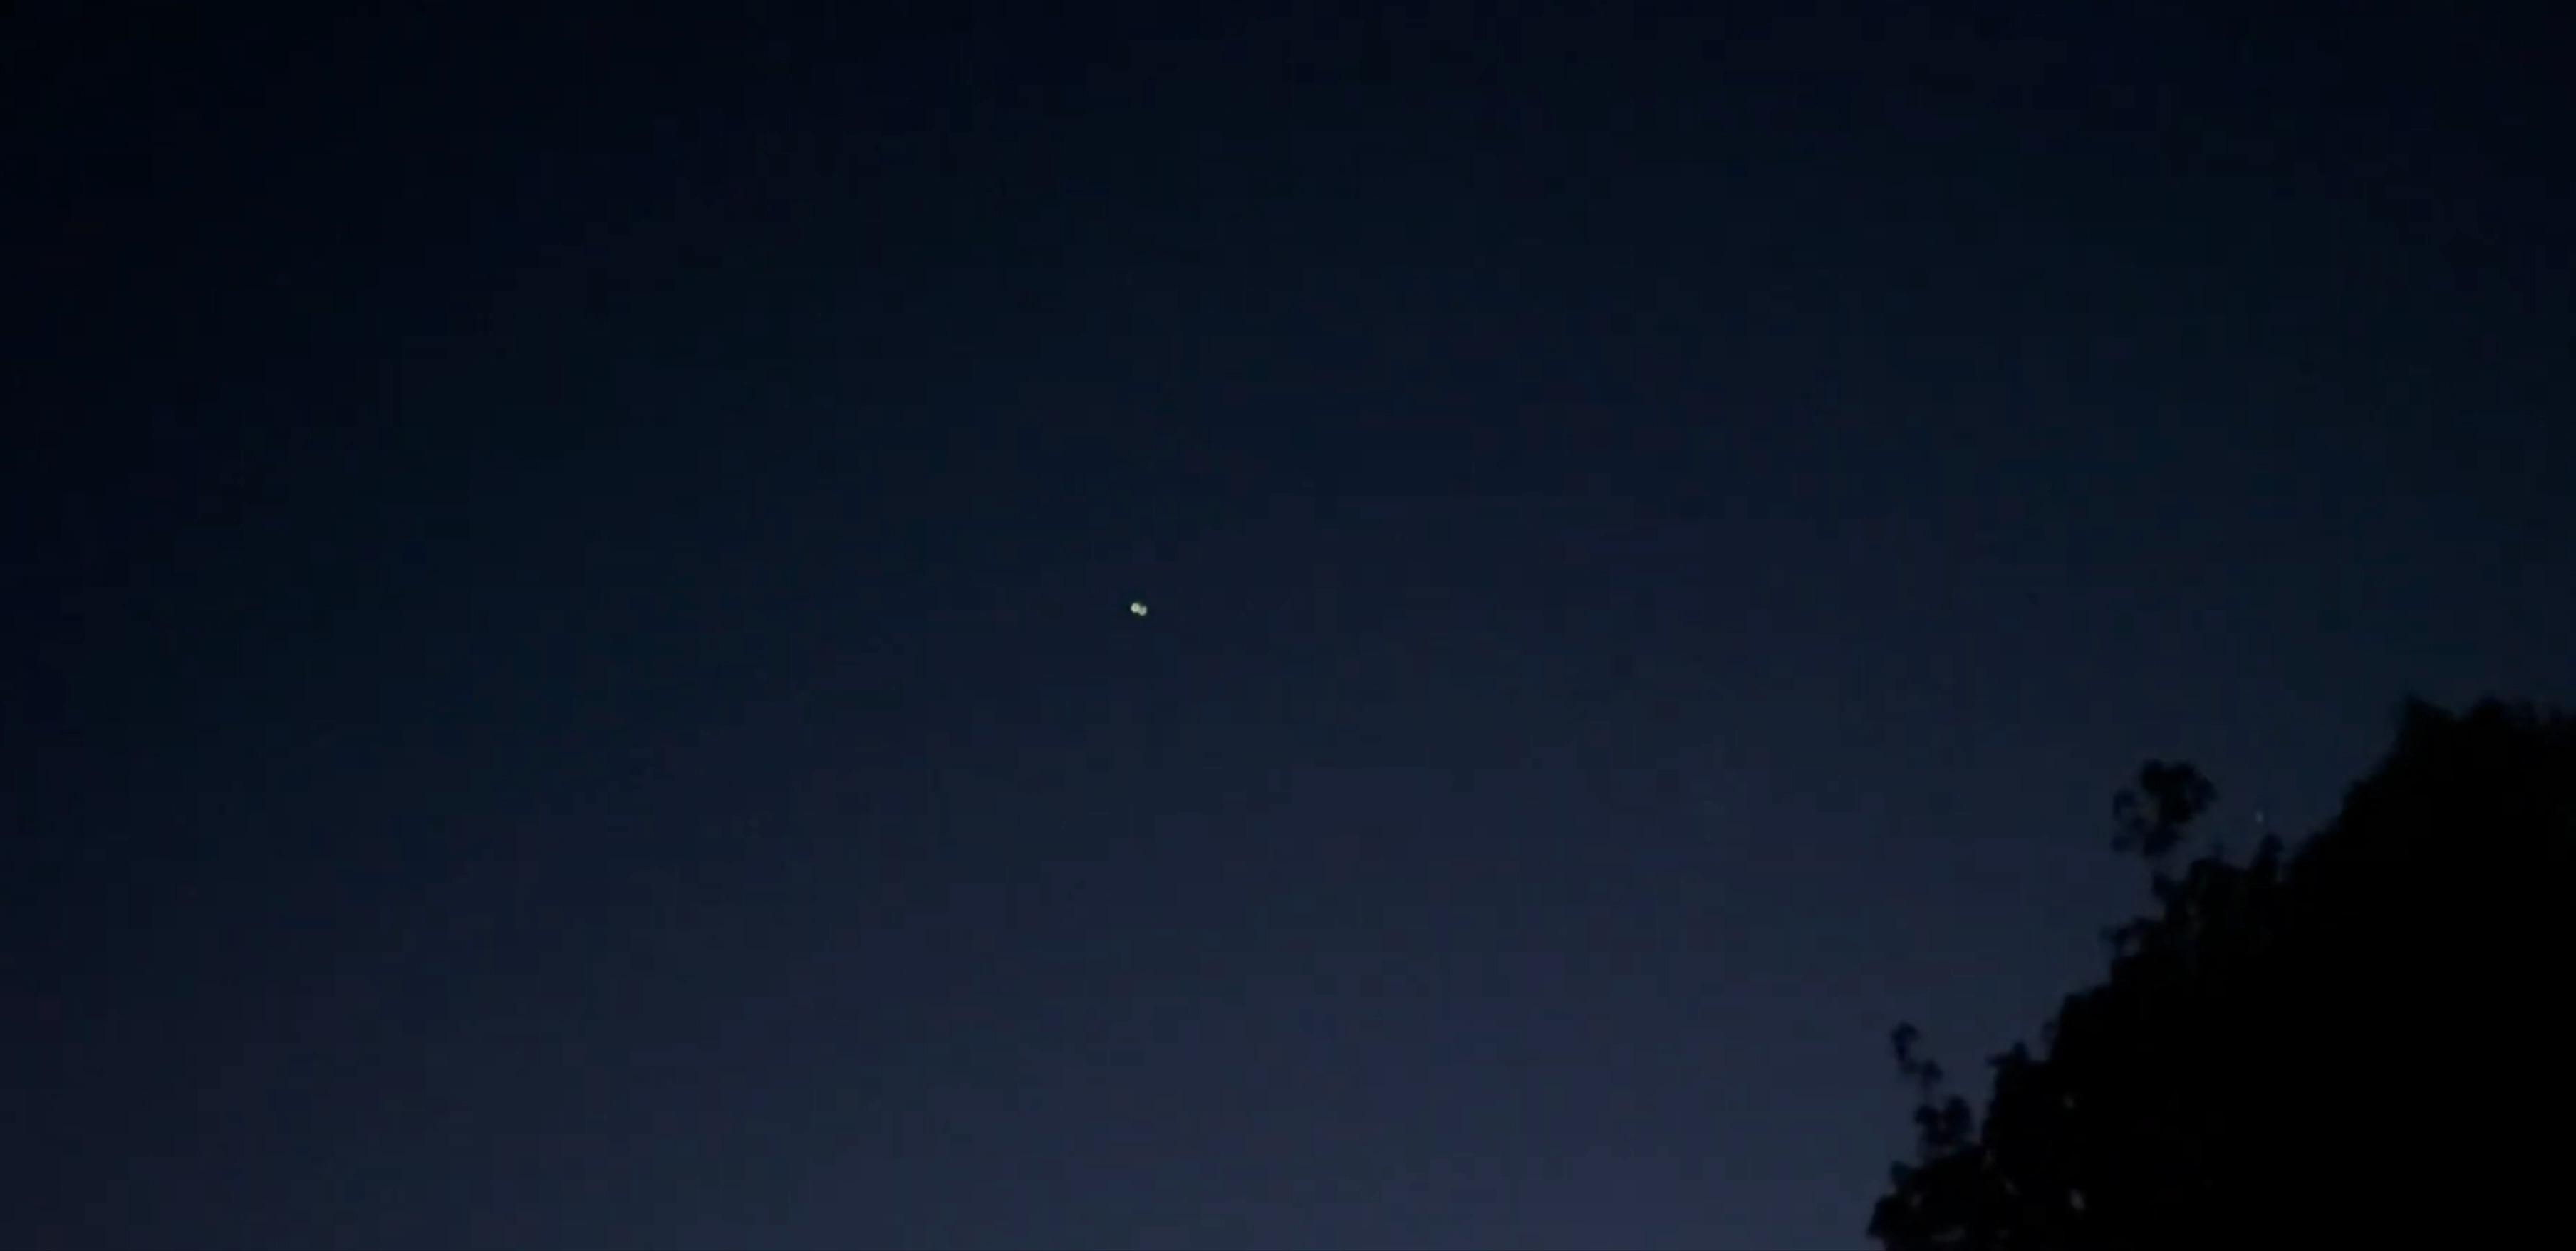Plane: (1109, 595, 1168, 623)
